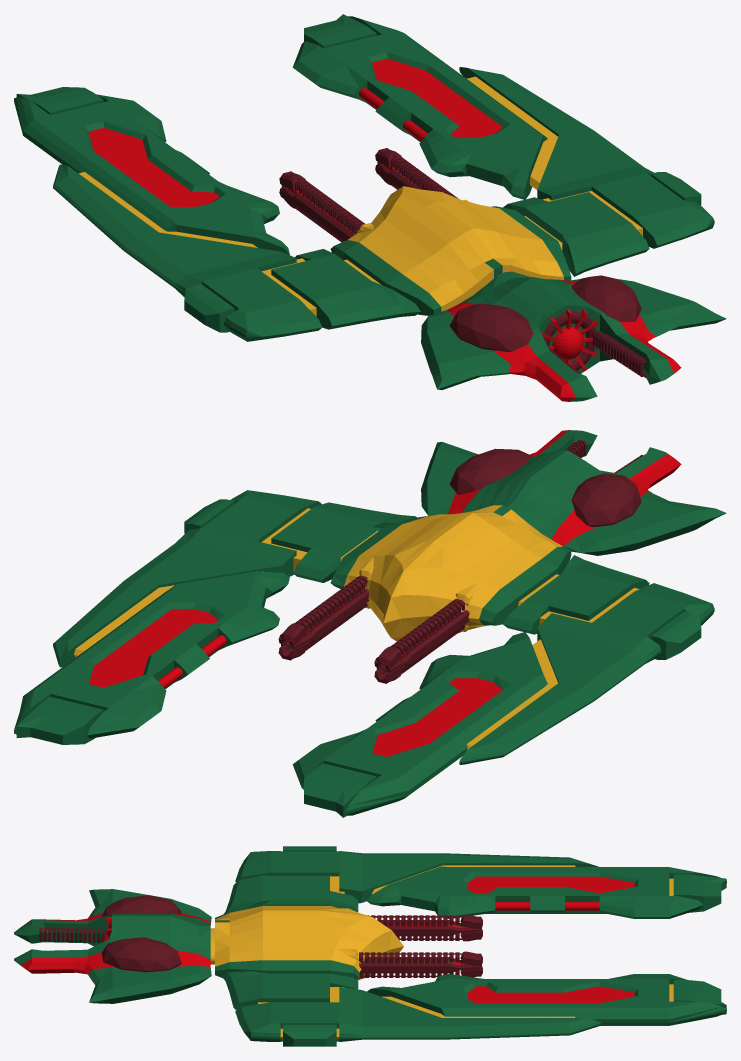
Rendered from Boss Galaga Textured.dae.
The picture shows the model from 3 angles, top to bottom: view 1: azimuth 30°, elevation 25°; view 2: azimuth 150°, elevation 25°; view 3: azimuth 270°, elevation 25°; orthographic projection. The views are drawn at different scales.
Parts seen in each view (by area): view 1: Body; view 2: Body; view 3: Body.
Boxes of the visible parts, x1,y1,x2,y2 form: Body: (14, 14, 726, 401); Body: (14, 430, 726, 817); Body: (14, 846, 726, 1046).
Bounding box in the file's own units: 42.17 × 66.1 × 7.32.
